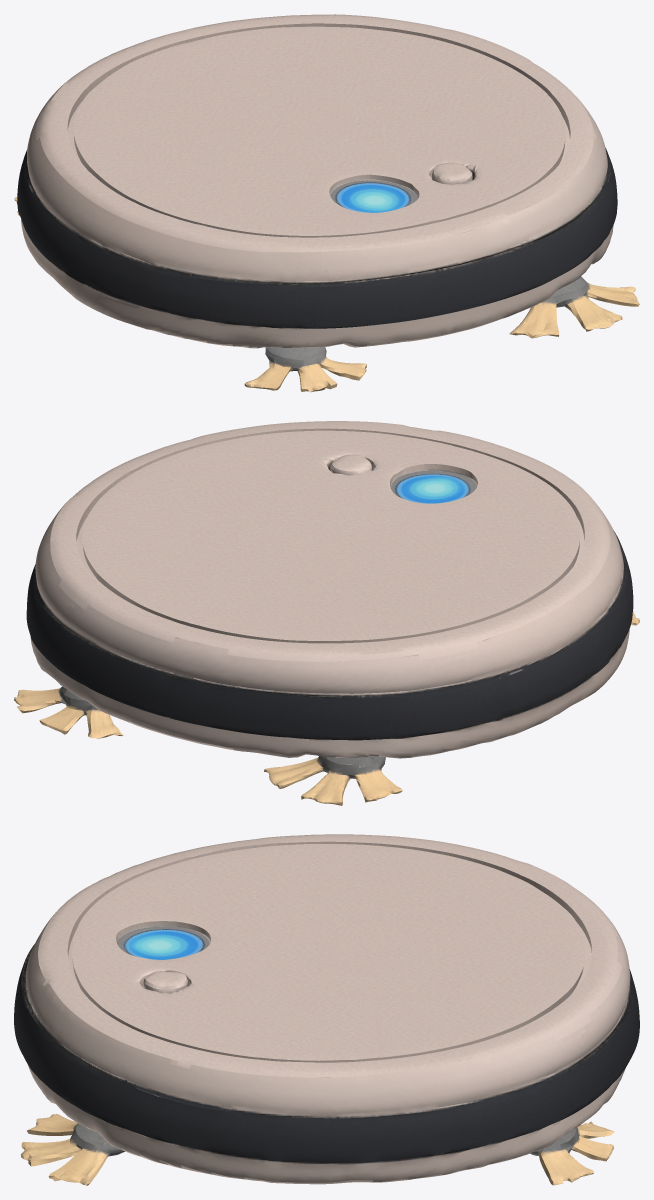
Rendered from robot_vacuum.glb.
3 renders of one model, top to bottom at view 1: azimuth 30°, elevation 25°; view 2: azimuth 150°, elevation 25°; view 3: azimuth 270°, elevation 25°, orthographic. The views are drawn at different scales.
Visible parts, largest first — view 1: Mesh0; view 2: Mesh0; view 3: Mesh0.
Part boxes in pixels (x1,y1,x2,y2): Mesh0: [14, 14, 639, 392]; Mesh0: [14, 421, 639, 805]; Mesh0: [14, 834, 639, 1185].
Size of the model in its own units: 1.9 by 0.4594 by 1.9.
Materials: 1 (1 with a texture image).
